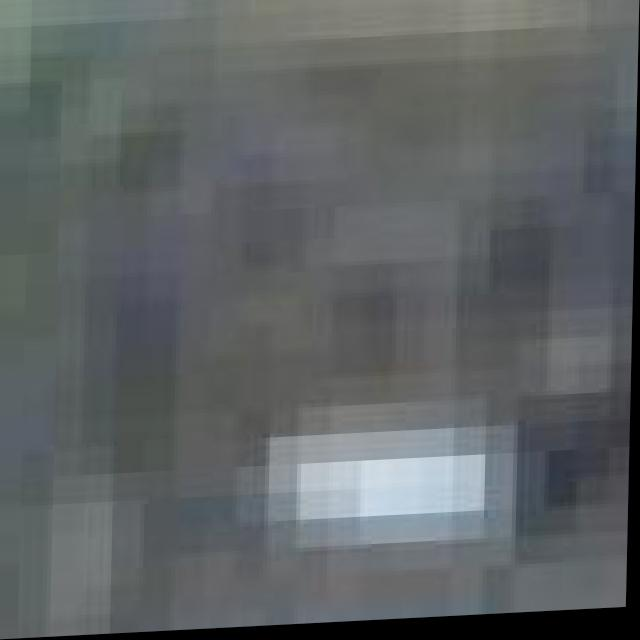transistor: (109, 350, 633, 635)
